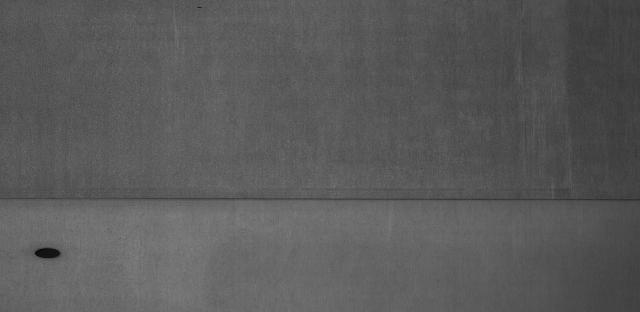punching_hole: (28, 241, 71, 264)
welding_line: (2, 190, 640, 208)
